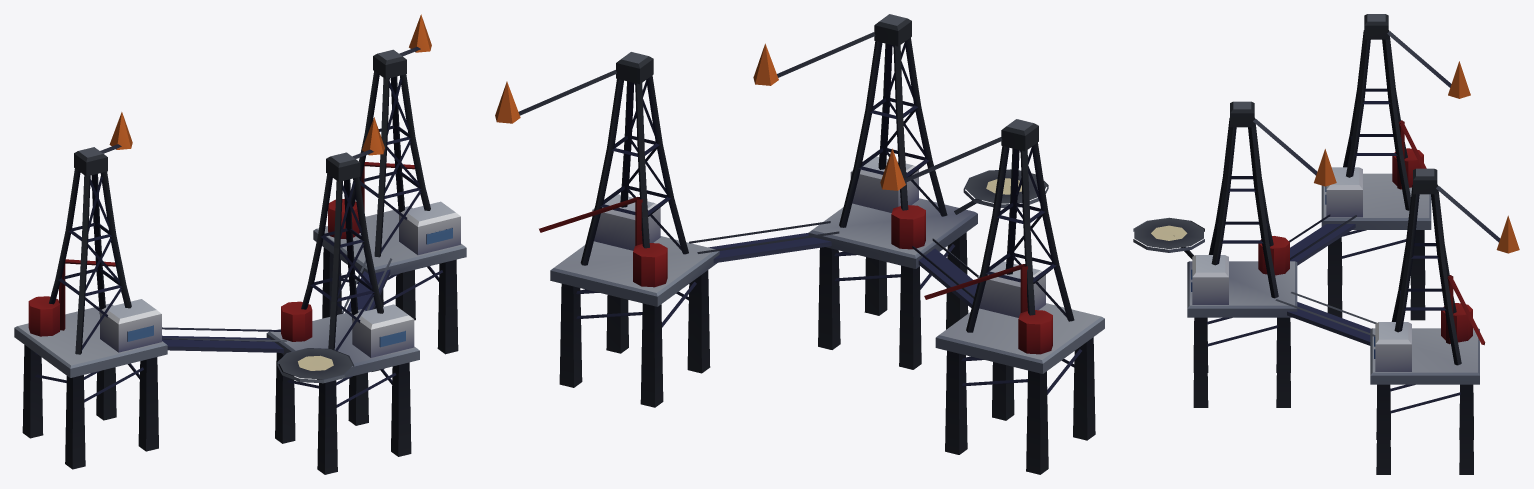
The model's file is oil_derricks.glb.
3 renders of one model, left to right at view 1: azimuth 30°, elevation 25°; view 2: azimuth 150°, elevation 25°; view 3: azimuth 270°, elevation 25°, orthographic. The views are drawn at different scales.
Parts seen in each view (by area): view 1: rigs; view 2: rigs; view 3: rigs.
Part boxes in pixels (<box>): rigs: <box>14,14,466,474</box>; rigs: <box>495,14,1104,474</box>; rigs: <box>1133,14,1519,474</box>.
Bounding box in the file's own units: 42.3 × 25.5 × 31.7.
